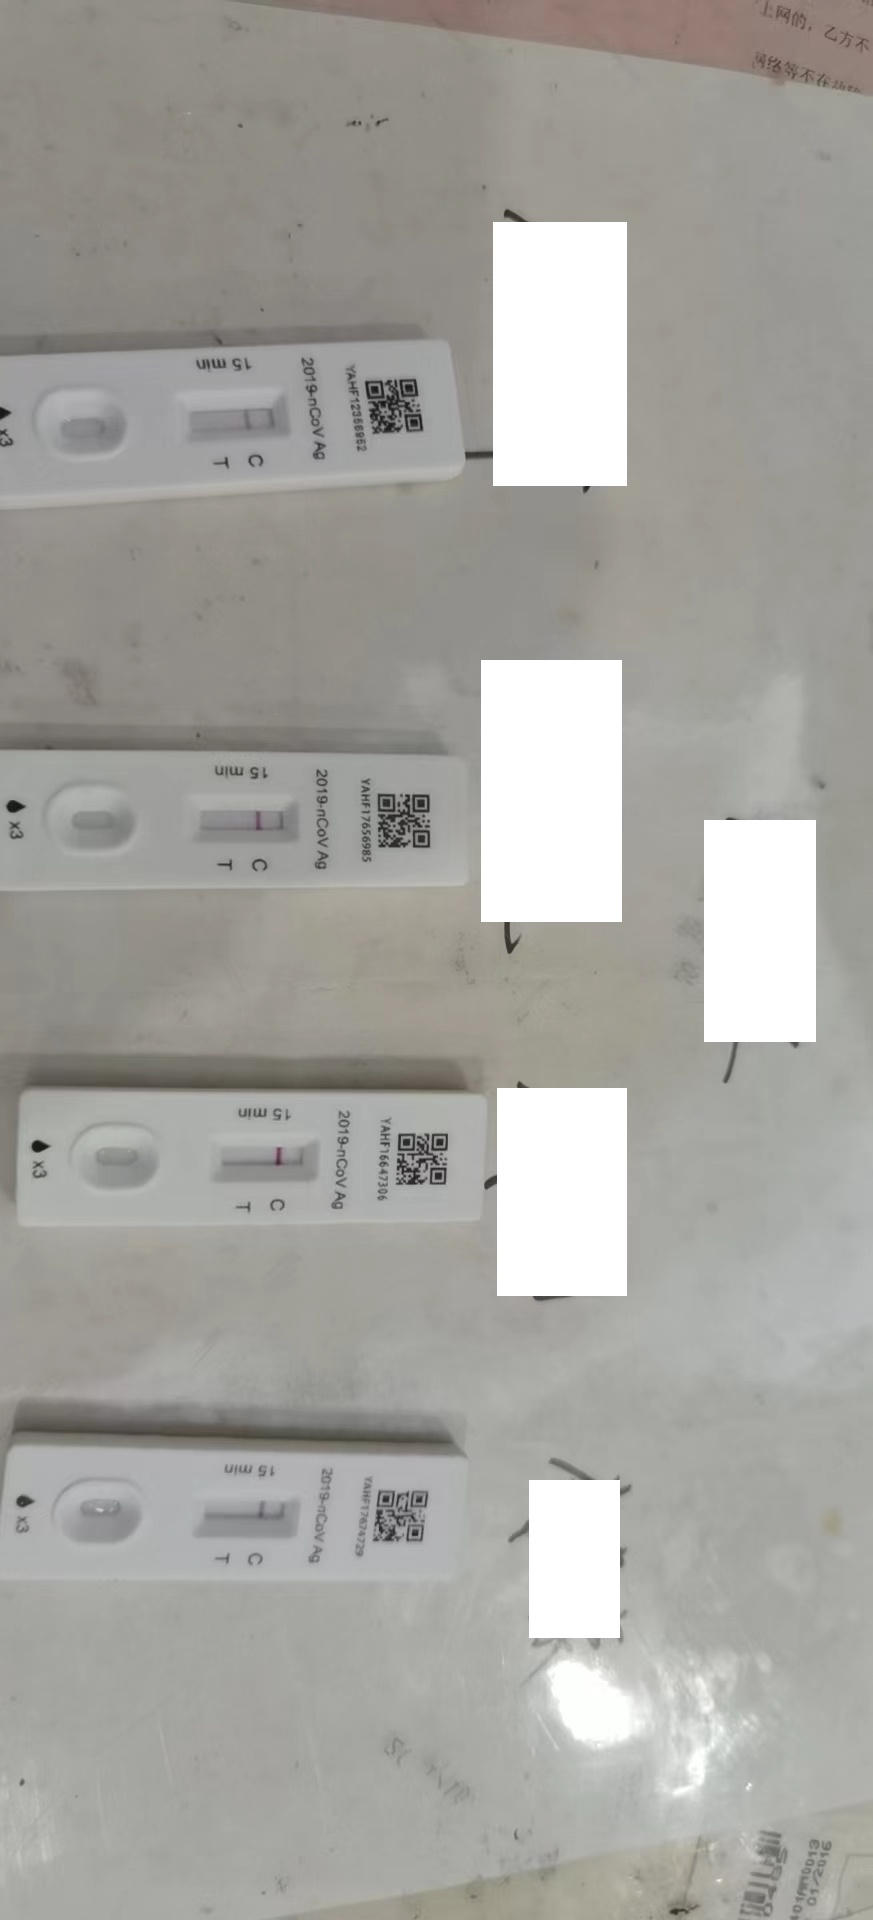negative: (202, 1129, 326, 1180), (187, 793, 301, 846), (171, 387, 287, 438), (191, 1491, 301, 1540)
